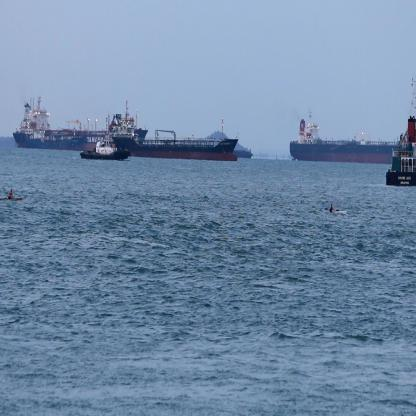Container Ship: (103, 100, 238, 161), (288, 107, 398, 163), (12, 94, 106, 150), (385, 75, 415, 188), (233, 148, 254, 160)
